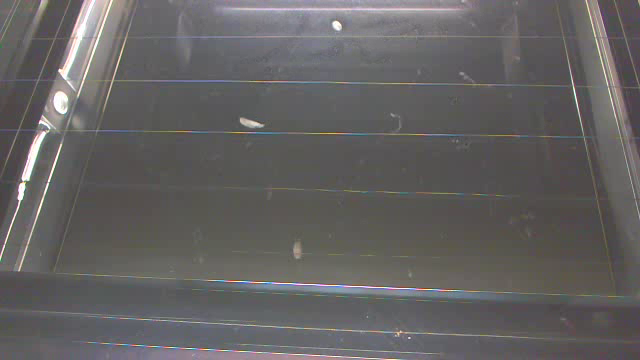alpha: (238, 118, 267, 128), (294, 240, 303, 261), (333, 19, 342, 30)
